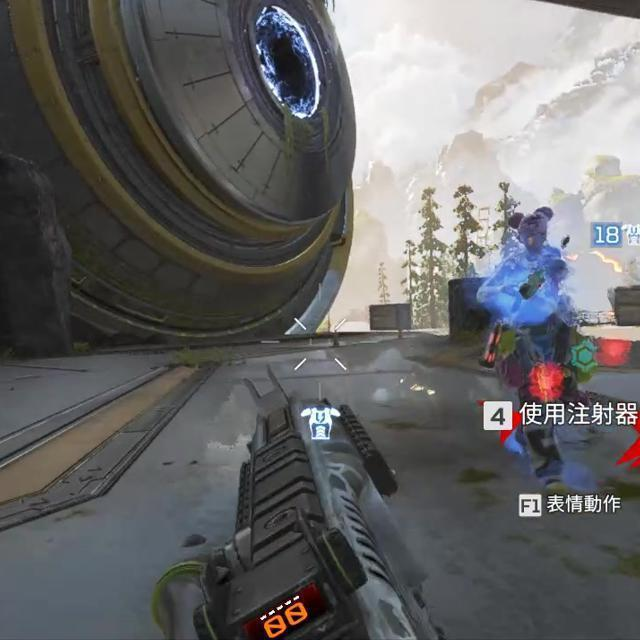avatar: (476, 207, 577, 492)
object: (525, 358, 567, 401)
